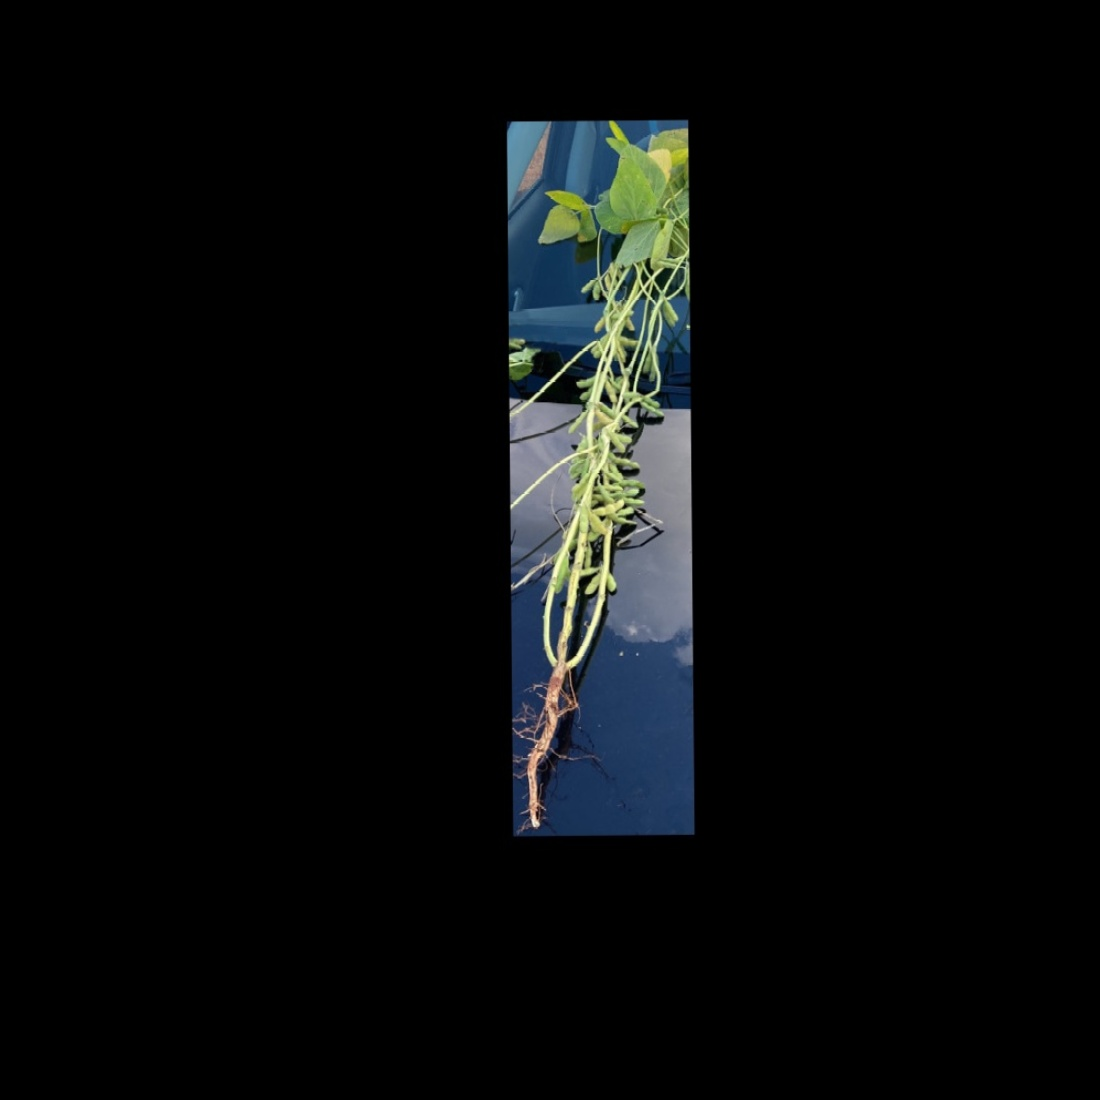pod: (589, 496, 625, 517), (563, 407, 587, 436), (581, 571, 605, 598), (607, 455, 642, 471), (601, 374, 618, 406), (608, 428, 629, 455), (662, 295, 680, 325), (579, 272, 600, 295), (588, 276, 602, 302), (617, 335, 643, 347)
soy: (508, 126, 690, 819)
